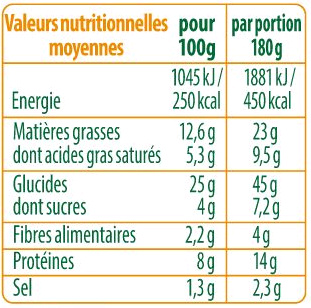column: (5, 11, 168, 299), (231, 10, 302, 301), (173, 12, 223, 300)
table: (2, 2, 305, 304)
